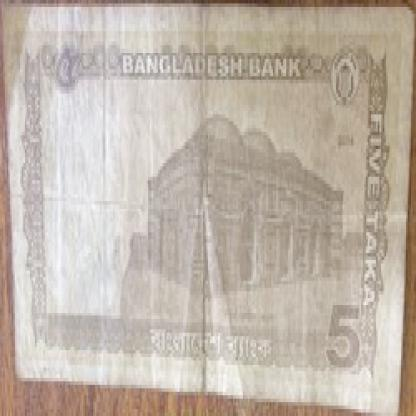Five Taka: (318, 288, 364, 381), (43, 28, 82, 107)
